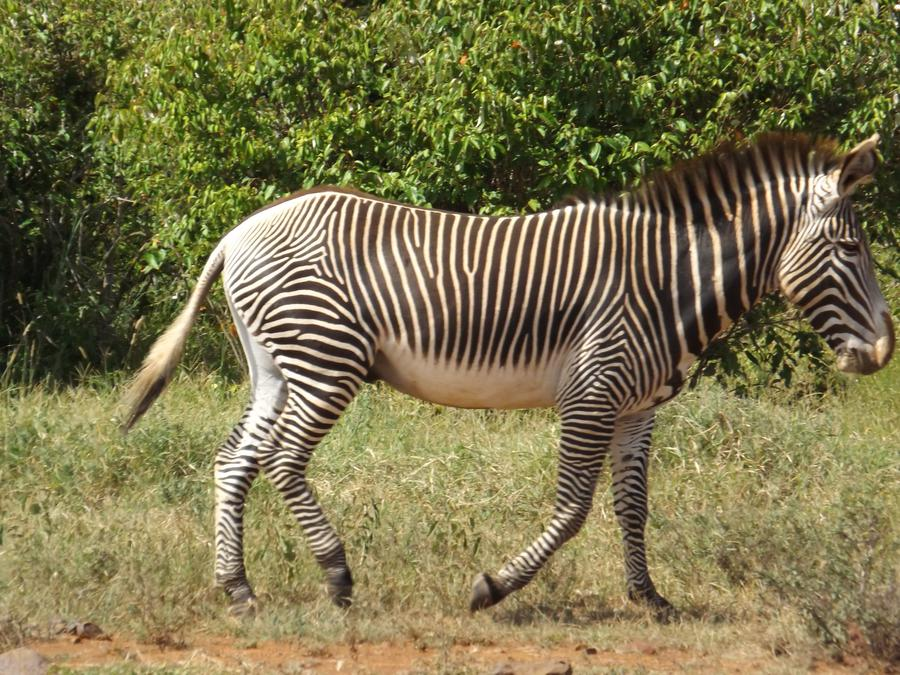zebra_grevys: (222, 182, 658, 403)
